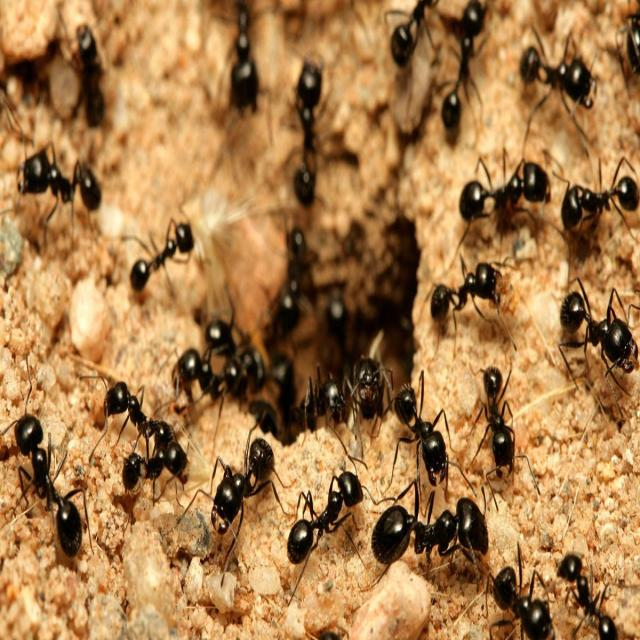ants: (12, 397, 86, 560), (371, 484, 498, 576), (557, 269, 640, 392), (288, 456, 367, 561), (102, 360, 180, 466), (202, 427, 282, 530), (24, 138, 106, 234), (424, 249, 502, 348), (128, 200, 200, 295), (392, 372, 454, 478), (120, 422, 192, 510), (462, 158, 552, 227), (520, 42, 598, 113), (562, 168, 640, 235), (476, 359, 520, 476), (174, 339, 244, 405), (346, 346, 392, 430), (294, 364, 344, 436)
